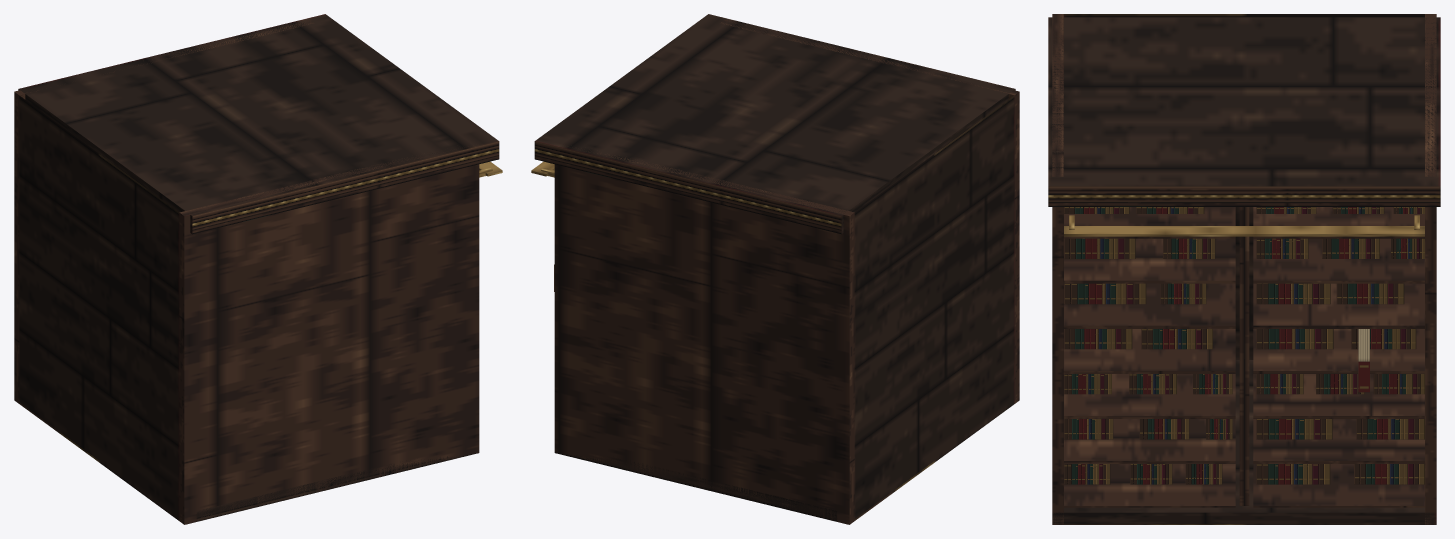
Rendered from Story_SecretBookcase.fbx.
3 views of the same model, side by side, from view 1: azimuth 30°, elevation 25°; view 2: azimuth 150°, elevation 25°; view 3: azimuth 270°, elevation 25° (orthographic). The views are drawn at different scales.
Parts seen in each view (by area): view 1: Story_SecretBookcase; view 2: Story_SecretBookcase; view 3: Story_SecretBookcase.
Part boxes in pixels (x1,y1,x2,y2): Story_SecretBookcase: (14,14,502,524); Story_SecretBookcase: (531,14,1019,524); Story_SecretBookcase: (1048,14,1440,524).
Bounding box in the file's own units: 1.1 × 1 × 1.02.
